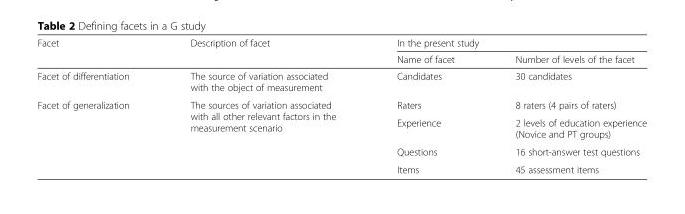table: (36, 36, 646, 174)
table column: (159, 36, 365, 174), (484, 36, 646, 174), (36, 36, 159, 174), (365, 36, 484, 174)
table column header: (36, 36, 646, 67)
table row: (36, 113, 646, 142), (36, 67, 646, 95), (36, 95, 646, 113), (36, 142, 646, 160), (36, 50, 646, 67), (36, 36, 646, 50), (36, 160, 646, 174)
table spanning cell: (159, 95, 365, 174), (36, 95, 159, 174), (159, 36, 365, 67), (365, 36, 646, 50), (36, 36, 159, 67)
